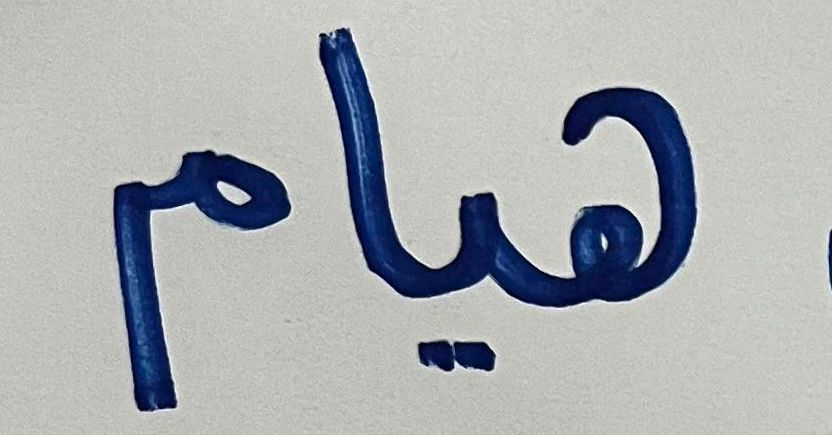alef: (296, 21, 390, 327)
heh: (515, 34, 758, 378)
meem: (85, 104, 292, 422)
yeh: (392, 117, 511, 392)
